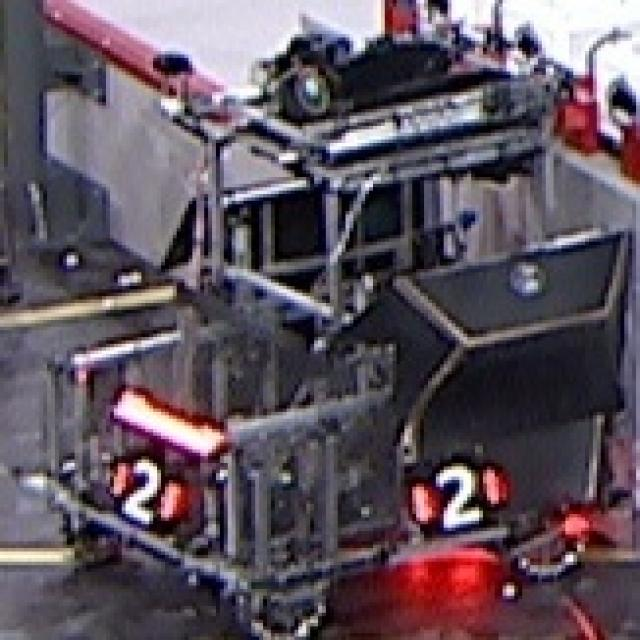R2: (412, 463, 507, 528), (110, 456, 181, 524)
